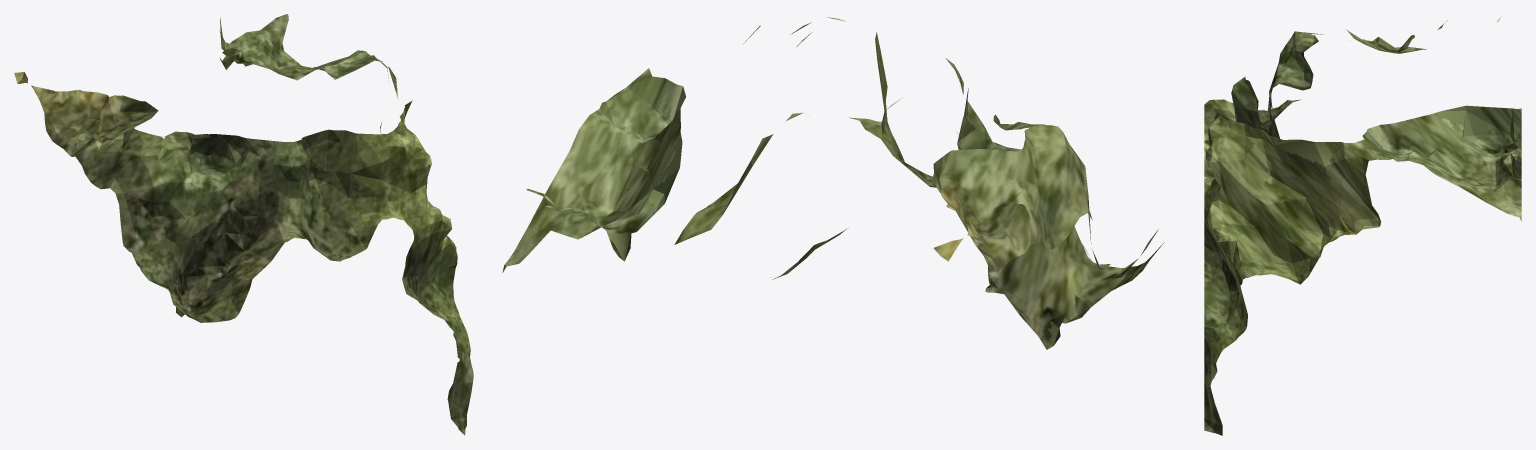
The picture shows the model from 3 angles, left to right: view 1: azimuth 30°, elevation 25°; view 2: azimuth 150°, elevation 25°; view 3: azimuth 270°, elevation 25°; orthographic projection. The views are drawn at different scales.
Bounding box in the file's own units: 5.9 × 5.9 × 5.9.
Materials: 3 (3 with a texture image).
